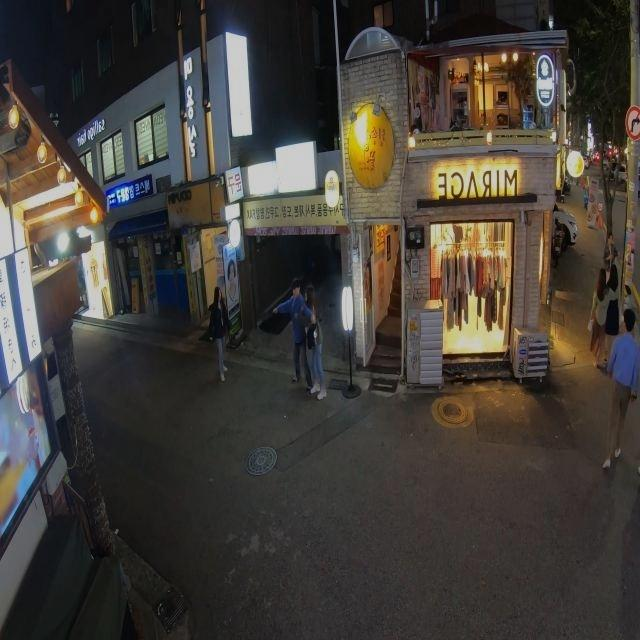non-fight: (272, 285, 316, 389), (302, 286, 332, 401), (208, 285, 230, 383)
